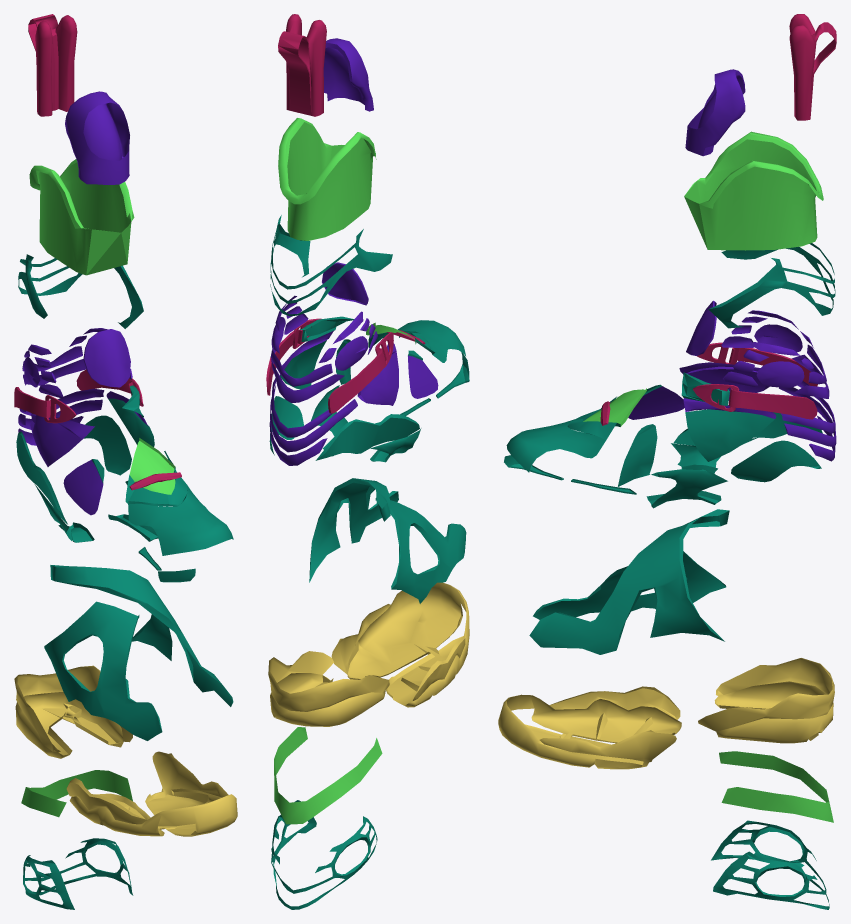
Rendered from shoe_sportgravity3.obj.
The picture shows the model from 3 angles, left to right: view 1: azimuth 30°, elevation 25°; view 2: azimuth 150°, elevation 25°; view 3: azimuth 270°, elevation 25°; orthographic projection.
Visible parts, largest first — view 1: Mesh49, Mesh48, Mesh14, Mesh47, Mesh12, Mesh39, Mesh45, Mesh17, Mesh11, Mesh40, Mesh51, Mesh7 (+13 smaller); view 2: Mesh48, Mesh49, Mesh47, Mesh14, Mesh45, Mesh12, Mesh51, Mesh7, Mesh39, Mesh3, Mesh11, Mesh17 (+17 smaller); view 3: Mesh49, Mesh48, Mesh12, Mesh47, Mesh51, Mesh11, Mesh7, Mesh39, Mesh16, Mesh14, Mesh45, Mesh17 (+16 smaller).
Boxes of the visible parts, left/top/right/bottom form: Mesh49: left=29, top=159, right=134, bottom=275; Mesh48: left=66, top=751, right=237, bottom=836; Mesh14: left=44, top=601, right=162, bottom=740; Mesh47: left=14, top=665, right=132, bottom=758; Mesh12: left=50, top=565, right=233, bottom=706; Mesh39: left=65, top=91, right=129, bottom=184; Mesh45: left=28, top=14, right=77, bottom=116; Mesh17: left=128, top=485, right=233, bottom=555; Mesh11: left=23, top=838, right=133, bottom=909; Mesh40: left=83, top=329, right=130, bottom=387; Mesh51: left=21, top=770, right=132, bottom=817; Mesh7: left=18, top=254, right=143, bottom=328; Mesh48: left=331, top=582, right=469, bottom=707; Mesh49: left=278, top=118, right=376, bottom=240; Mesh47: left=268, top=651, right=389, bottom=726; Mesh14: left=375, top=498, right=466, bottom=603; Mesh45: left=278, top=14, right=326, bottom=116; Mesh12: left=309, top=478, right=398, bottom=582; Mesh51: left=274, top=727, right=382, bottom=824; Mesh7: left=270, top=215, right=392, bottom=316; Mesh39: left=323, top=38, right=373, bottom=111; Mesh3: left=315, top=414, right=419, bottom=460; Mesh11: left=271, top=800, right=377, bottom=909; Mesh17: left=368, top=320, right=465, bottom=362; Mesh49: left=684, top=131, right=823, bottom=250; Mesh48: left=498, top=686, right=681, bottom=769; Mesh12: left=529, top=509, right=729, bottom=654; Mesh47: left=698, top=658, right=834, bottom=743; Mesh51: left=719, top=751, right=833, bottom=822; Mesh11: left=711, top=820, right=829, bottom=909; Mesh7: left=708, top=243, right=835, bottom=328; Mesh39: left=685, top=69, right=745, bottom=156; Mesh16: left=685, top=409, right=774, bottom=461; Mesh14: left=533, top=551, right=726, bottom=619; Mesh45: left=789, top=14, right=836, bottom=120; Mesh17: left=506, top=419, right=606, bottom=472.
Bounding box in the file's own units: 31.25 × 247 × 85.22.
